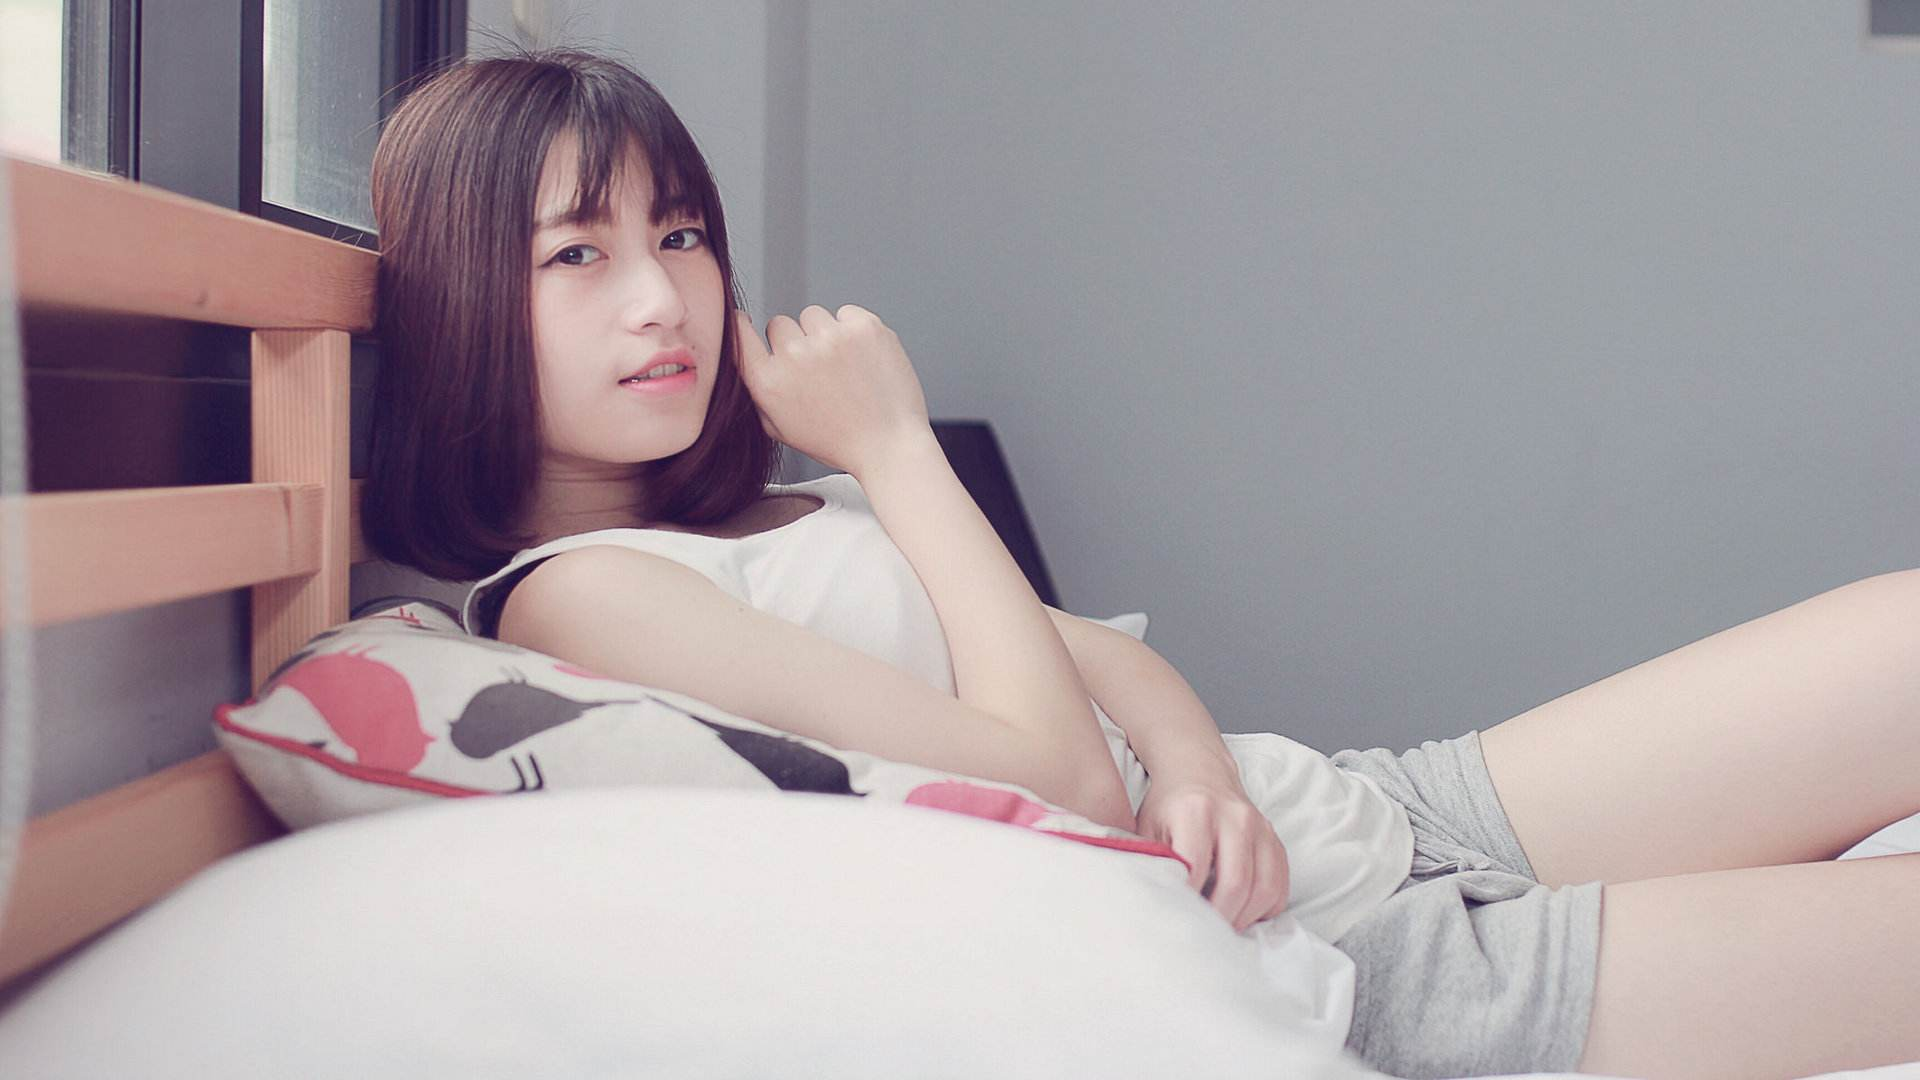person: (379, 50, 1761, 1041)
